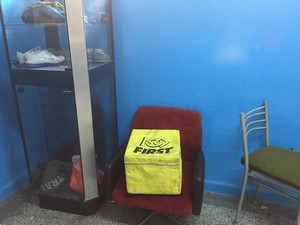cube: (126, 128, 185, 197)
